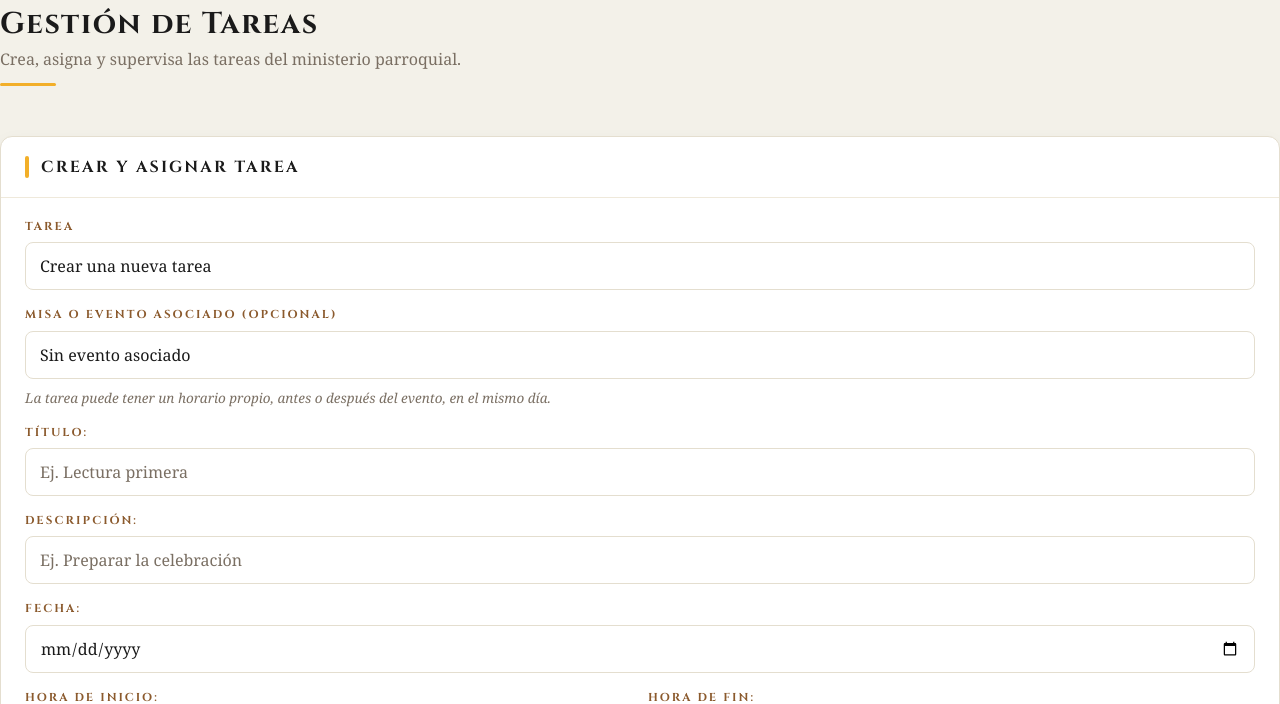
Scenario: integración de tareas, asignaciones y permisos › agrega ministros a una tarea existente en el mismo formulario
Step 1. Select "Lectura dominical · 20 de octubre de 2099 · 14:00 – 15:00" in the dropdown labelled "Tarea" → (640, 266), box [25, 242, 1255, 290]
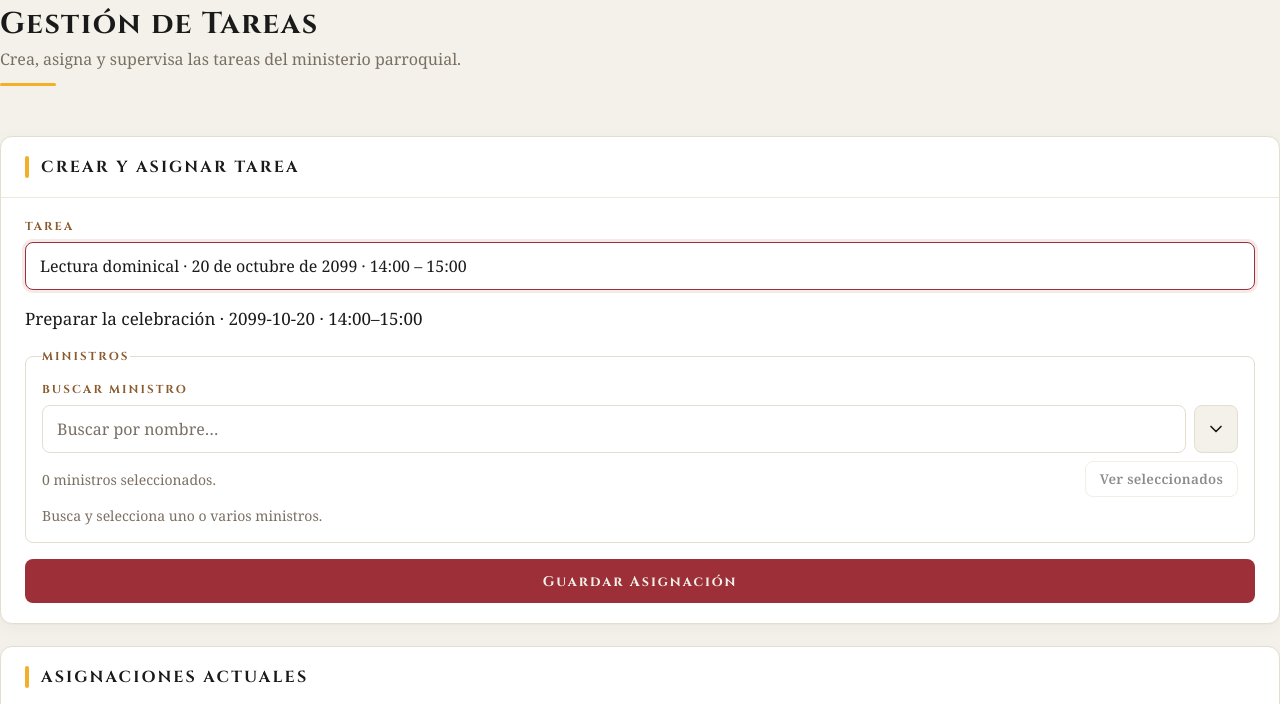
Step 2. Click the button named "opciones de ministros" → (1216, 429), box [1194, 405, 1238, 453]
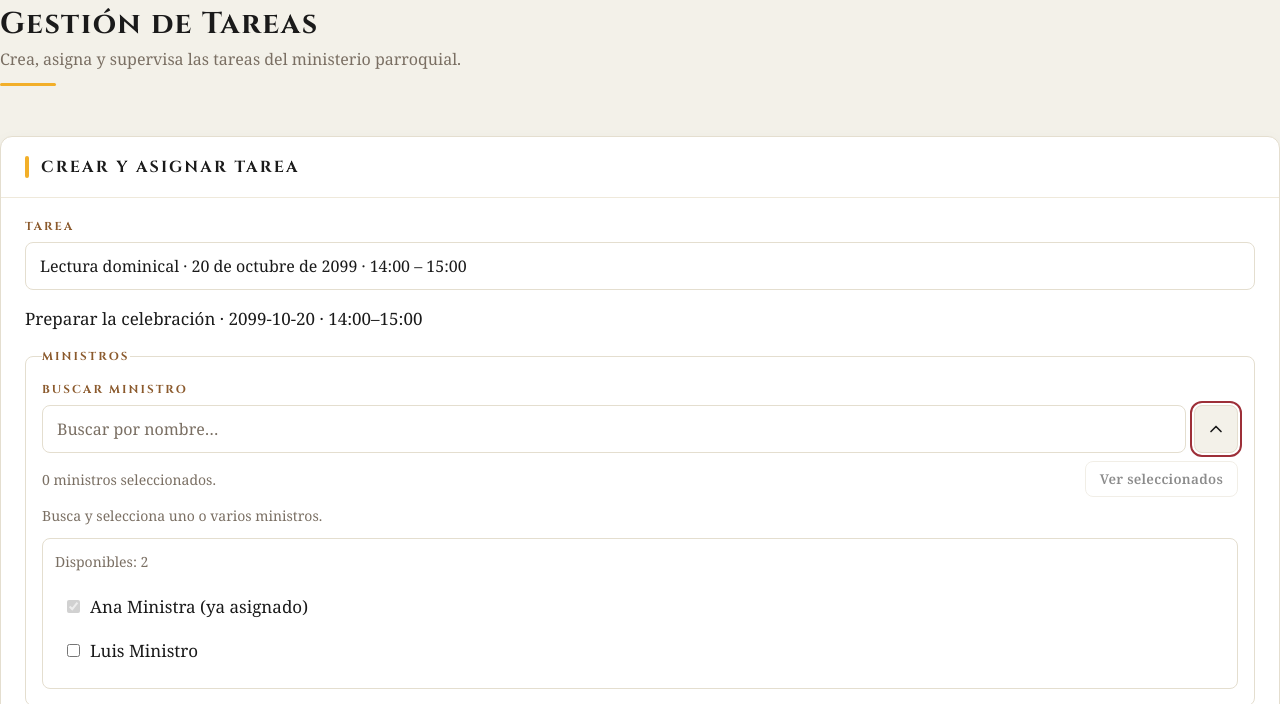
Step 3. Click the checkbox labelled "Luis Ministro" → (74, 650), box [67, 644, 80, 657]
(page scrolled)
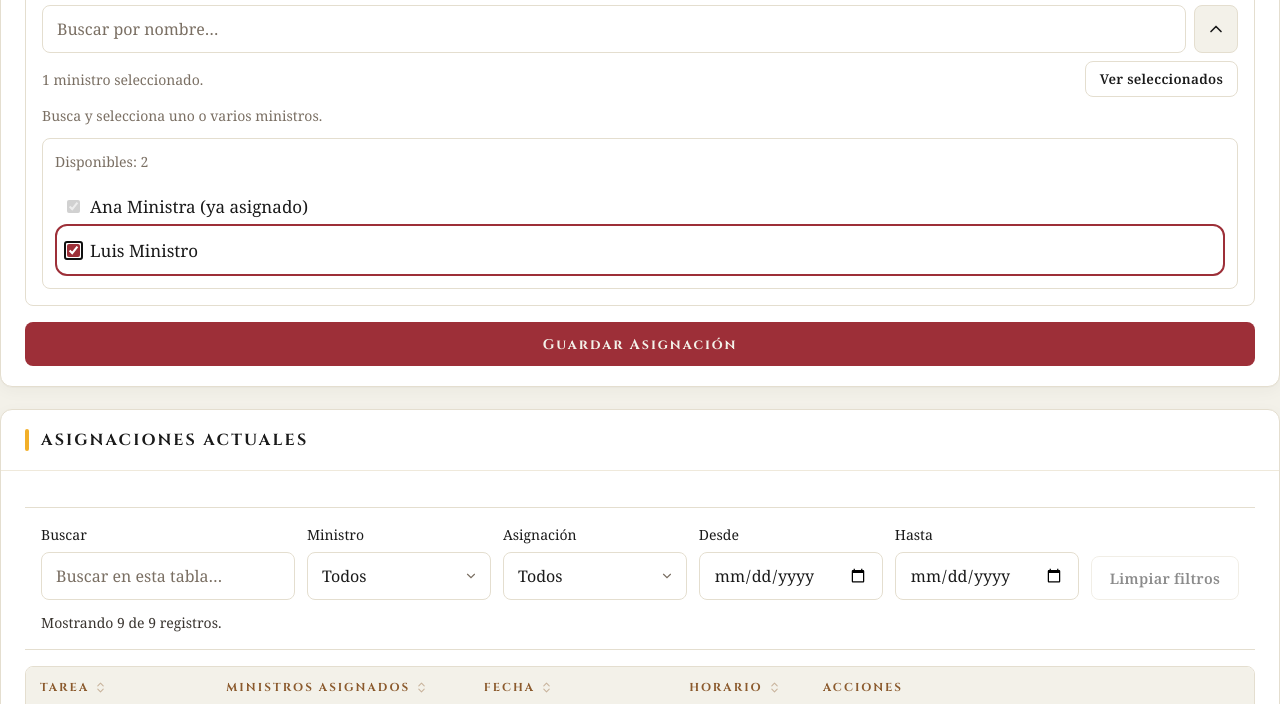
Step 4. Click the button "Guardar Asignación" → (640, 344), box [25, 322, 1255, 366]
(page scrolled)
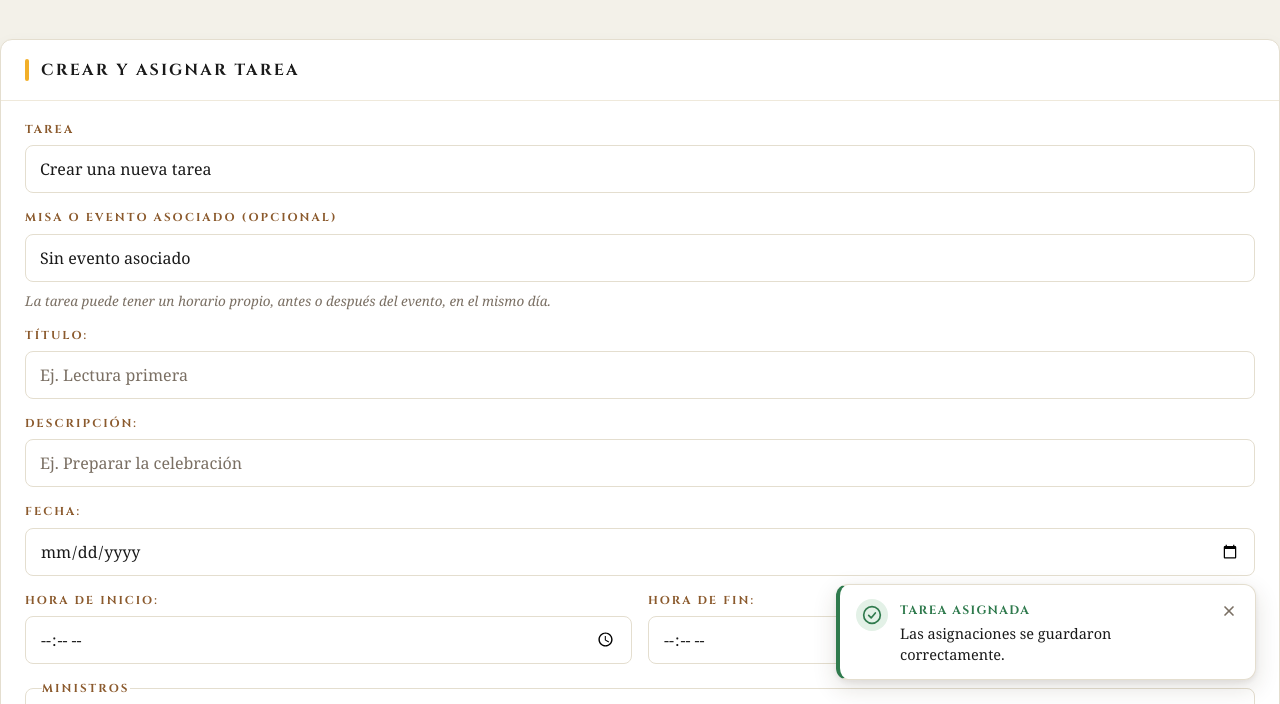
Now the message shows "Tarea asignada", box [900, 602, 1030, 618]
